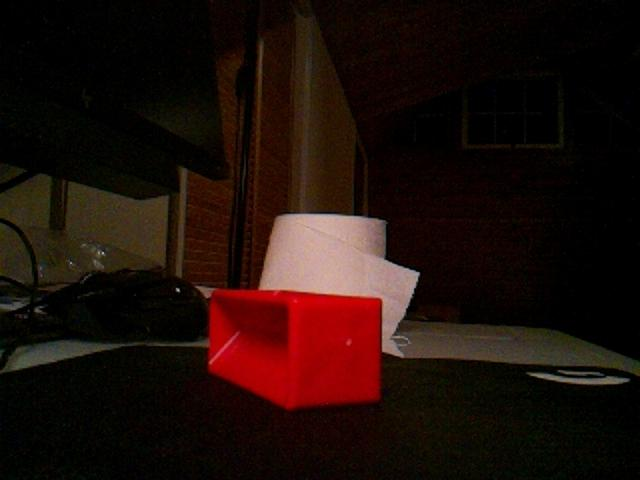red: (206, 287, 384, 412)
